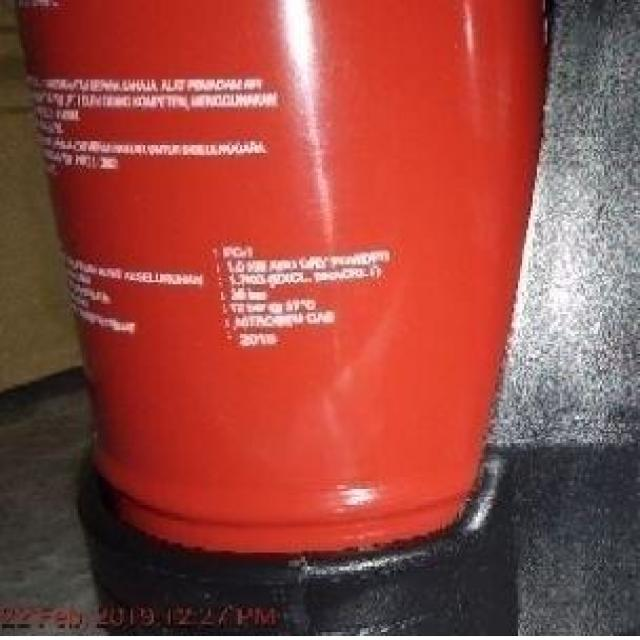fire_extinguisher: (12, 0, 550, 638)
